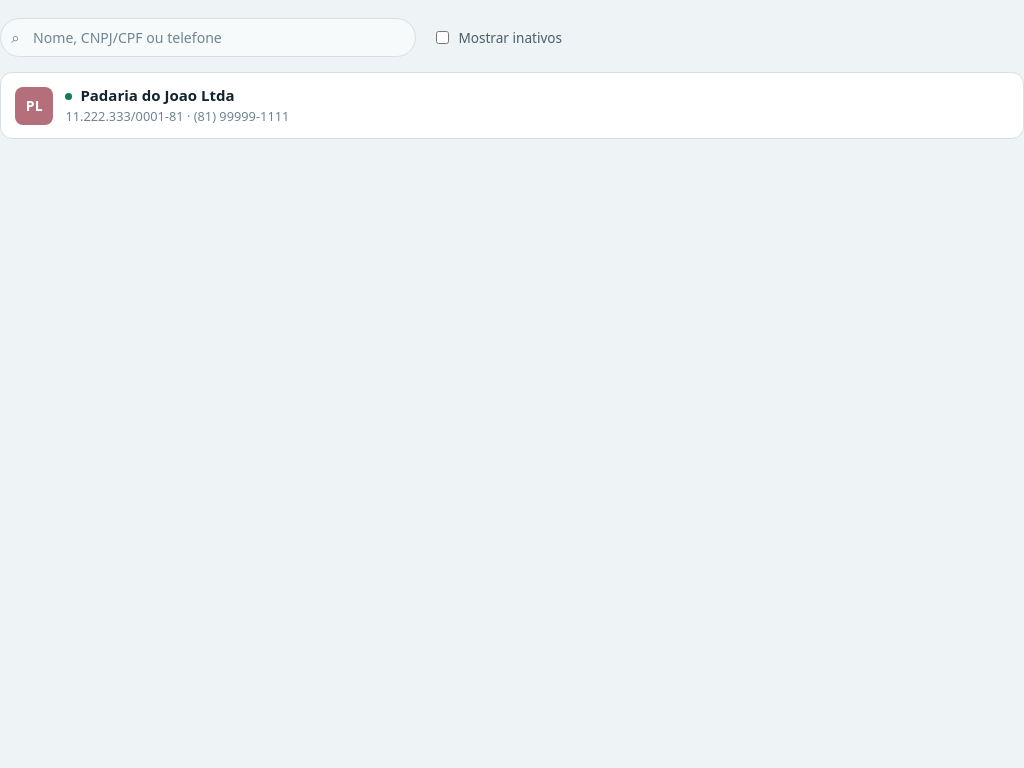
lista de clientes › clicar abre a gaveta do perfil, e ela fecha
The width and height of the screenshot is (1024, 768).
Click the button "PL Padaria do Joao Ltda 11.222.333/0001-81 · (81) 99999-1111".
click(34, 106)  # box [1,73,1023,138]
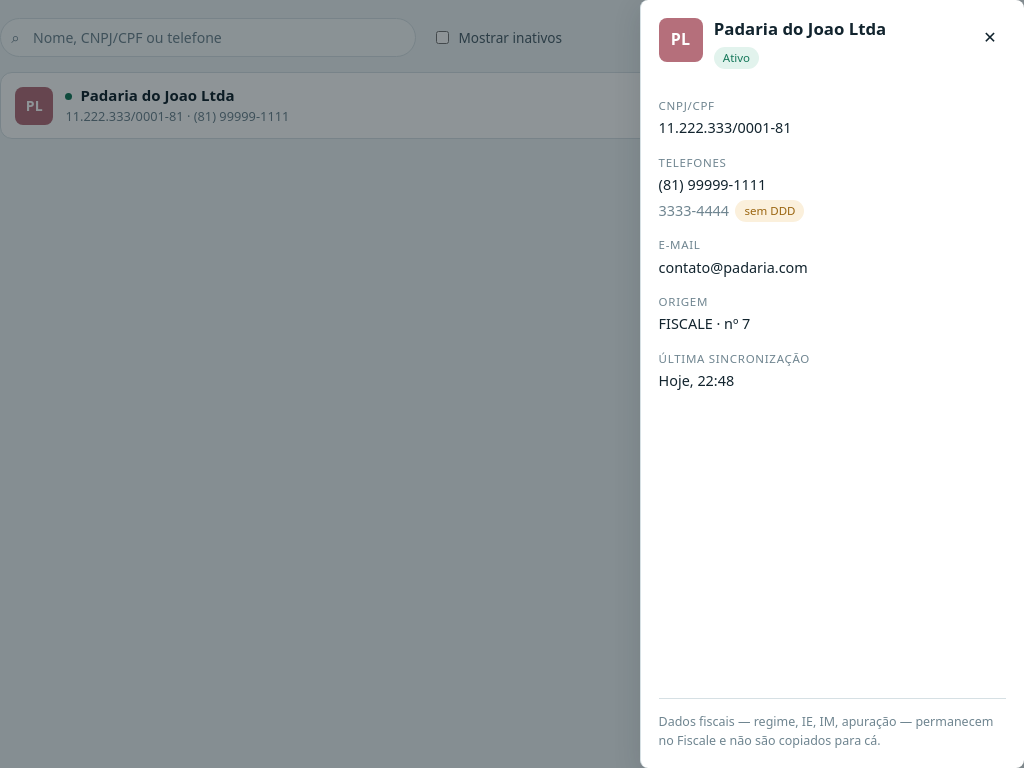
Check: the dialog is shown, box [640,0,1023,767]
Click the button named "fechar perfil".
click(990, 37)  # box [973,18,1006,57]
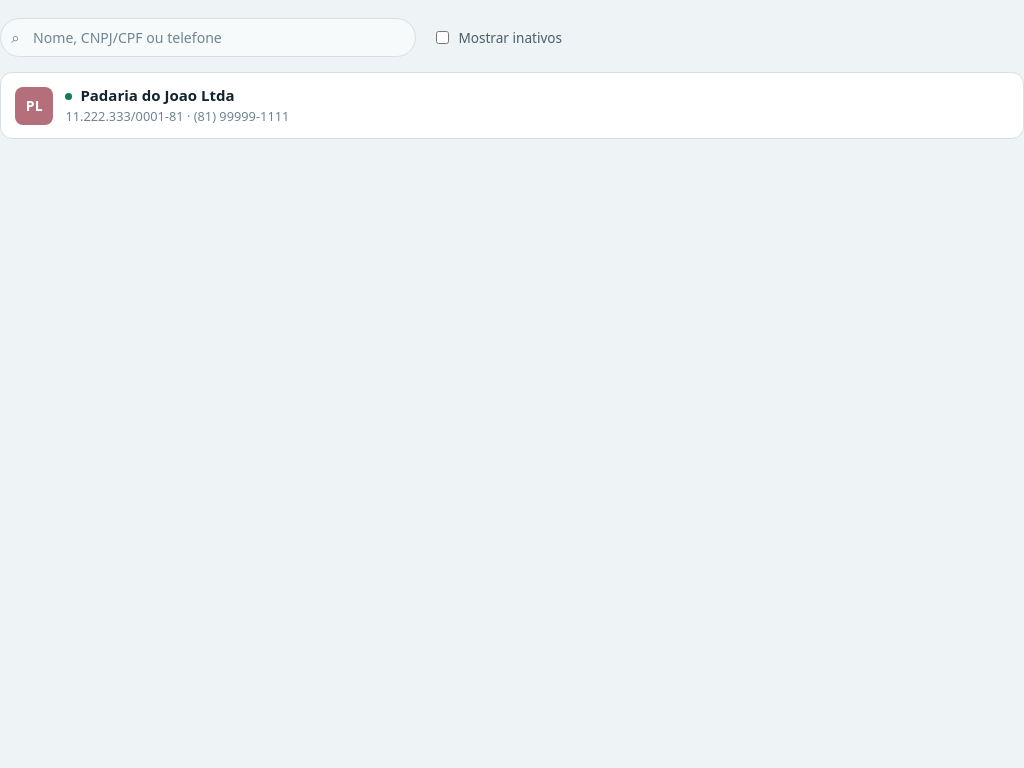
Check: the dialog is gone
